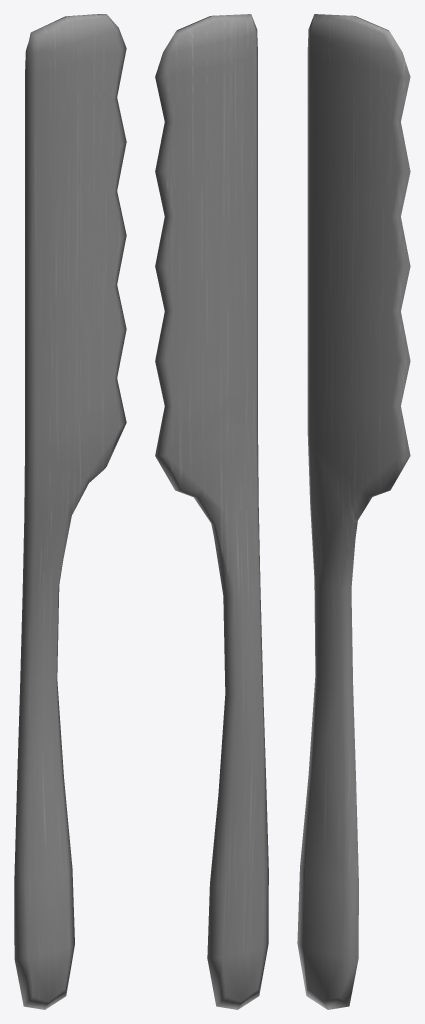
Rendered from knifetable.glb.
3 renders of one model, left to right at view 1: azimuth 30°, elevation 25°; view 2: azimuth 210°, elevation 25°; view 3: azimuth 330°, elevation 25°, orthographic.
Parts seen in each view (by area): view 1: knifetable; view 2: knifetable; view 3: knifetable.
Part boxes in pixels (x1=…): knifetable: x1=14, y1=14, x2=126, y2=1009; knifetable: x1=155, y1=14, x2=268, y2=1009; knifetable: x1=297, y1=14, x2=410, y2=1009.
Size of the model in its own units: 0.0241 by 0.203 by 0.00582.
1 material, 1 textured.
